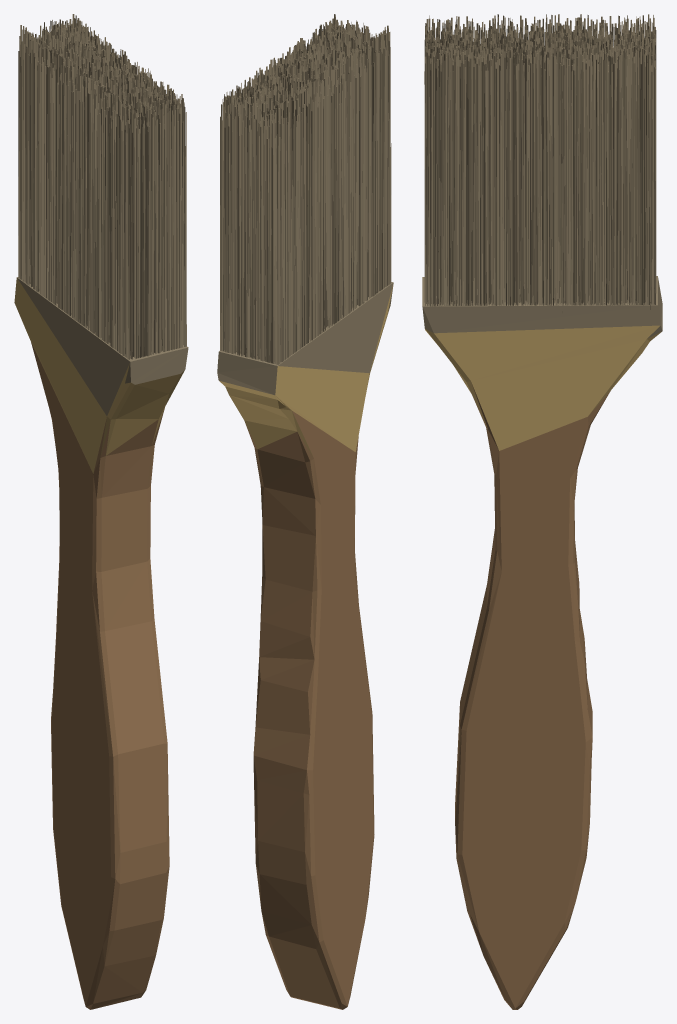
The model's file is Tool_Brush.fbx.
3 views of the same model, side by side, from view 1: azimuth 30°, elevation 25°; view 2: azimuth 150°, elevation 25°; view 3: azimuth 270°, elevation 25° (orthographic). The views are drawn at different scales.
Parts seen in each view (by area): view 1: Tool_Brush; view 2: Tool_Brush; view 3: Tool_Brush.
Part boxes in pixels (x1,y1,x2,y2): Tool_Brush: (14, 14, 188, 1009); Tool_Brush: (217, 14, 393, 1009); Tool_Brush: (422, 14, 662, 1009).
Bounding box in the file's own units: 1.69 × 26 × 5.84.
